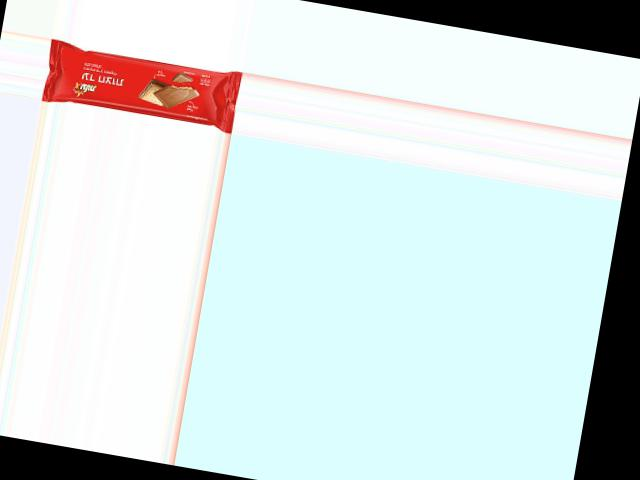chocolate: (46, 38, 240, 133)
